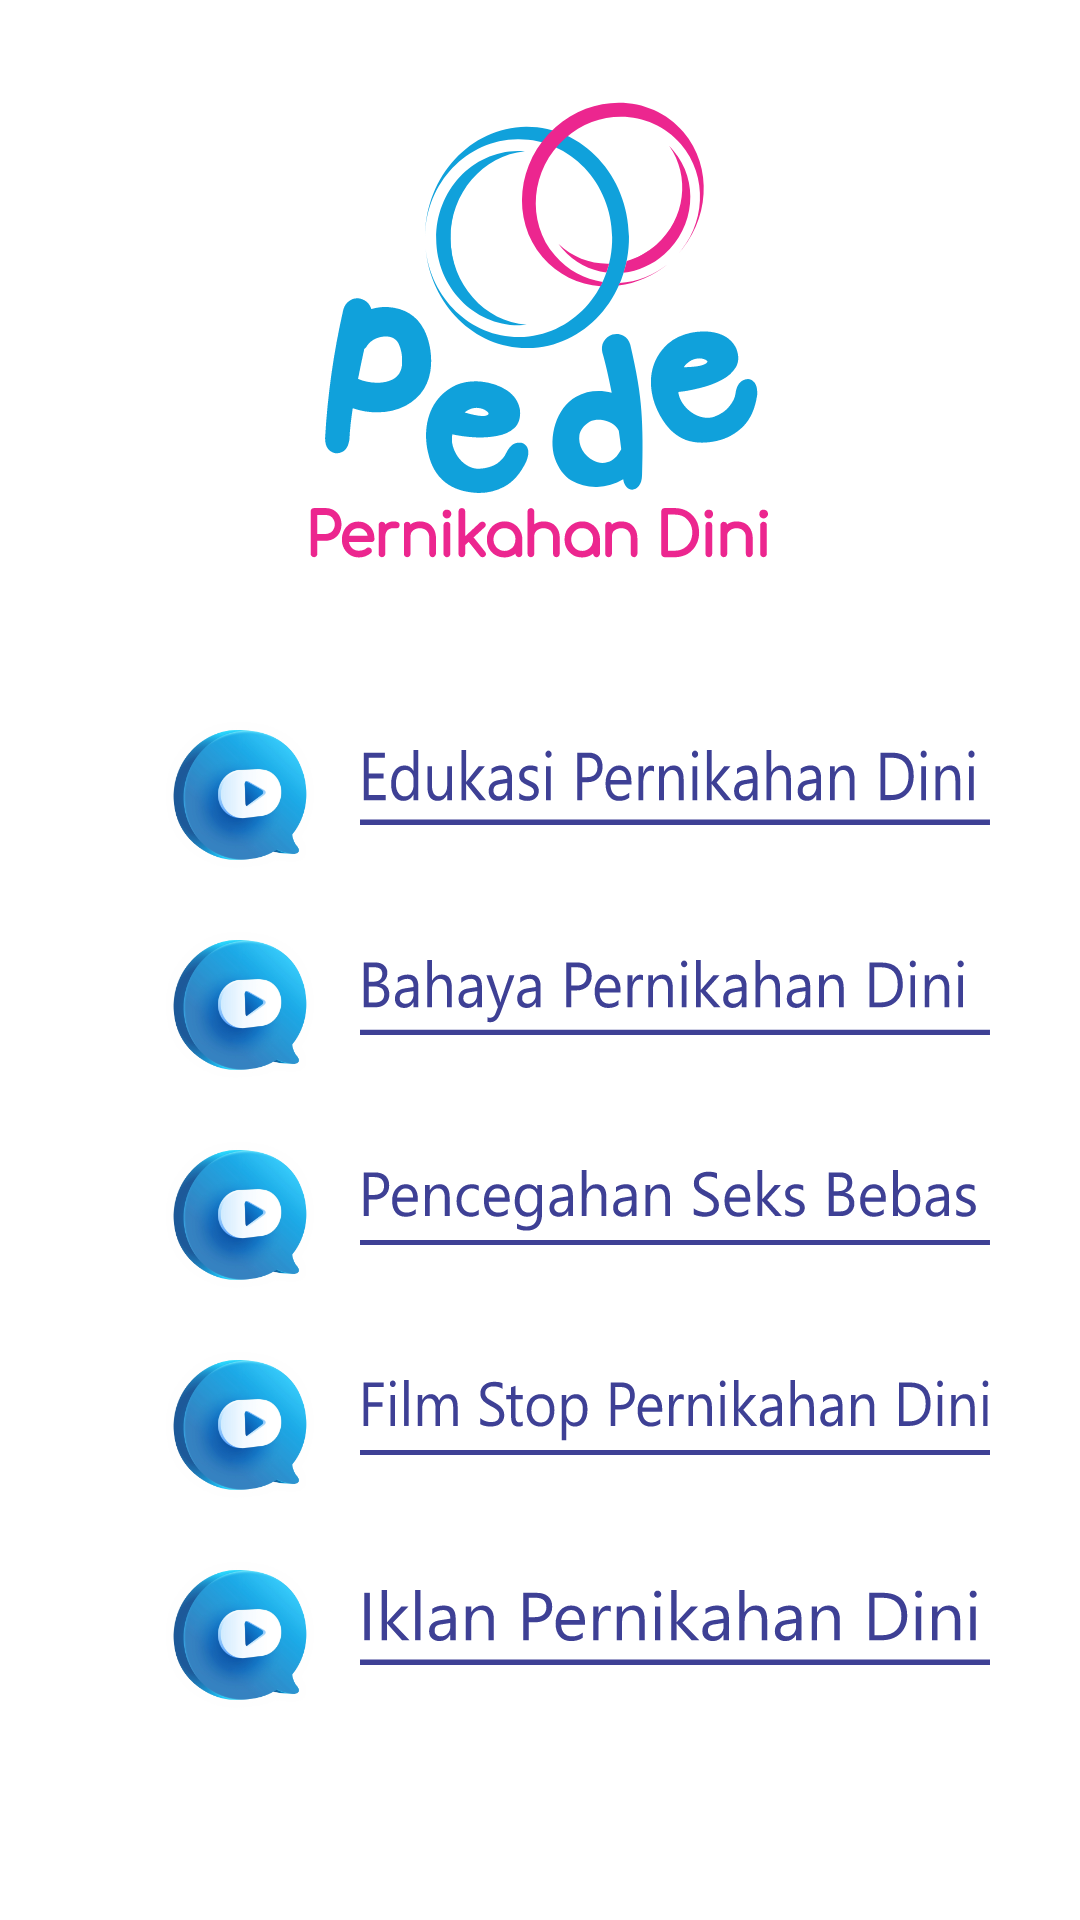

Locate icon controls on the screen. Image size 1080px x 1920px, boxes as (x1, y1, x2, y2).
ison video: (173, 730, 307, 860), (173, 940, 307, 1070), (173, 1150, 307, 1280), (173, 1360, 307, 1490), (173, 1570, 307, 1700)
